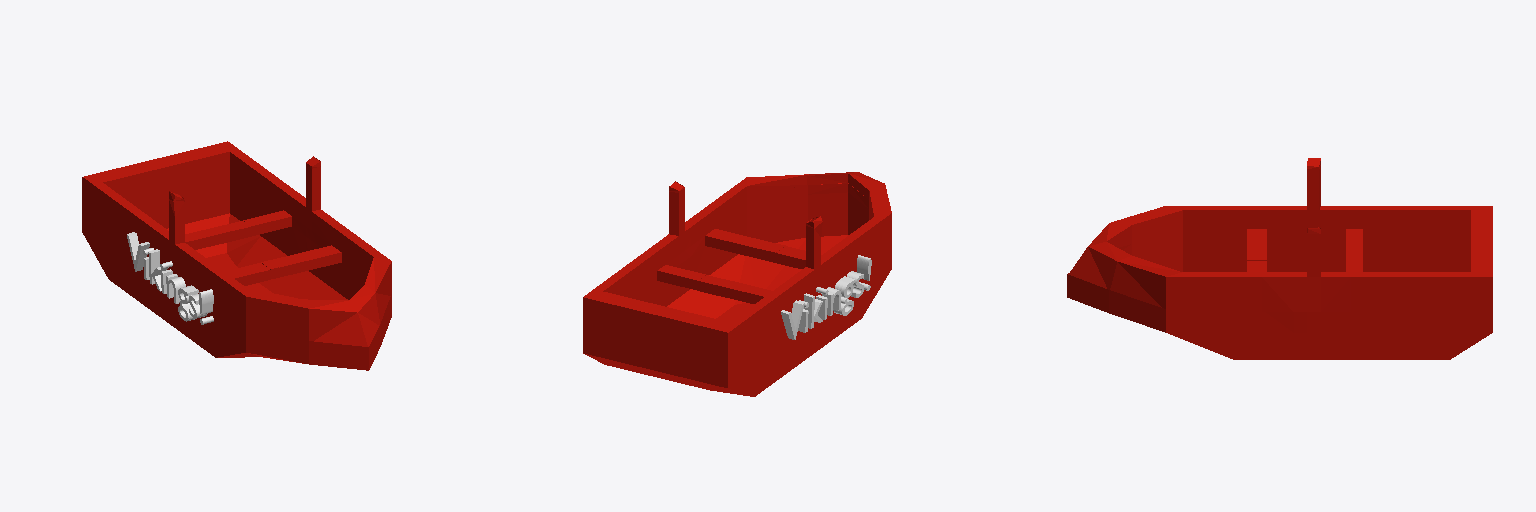
The model's file is boat3.obj.
3 renders of one model, left to right at view 1: azimuth 30°, elevation 25°; view 2: azimuth 150°, elevation 25°; view 3: azimuth 270°, elevation 25°, orthographic.
Parts seen in each view (by area): view 1: boat_Cube, Vikings_Text; view 2: boat_Cube, Vikings_Text; view 3: boat_Cube.
Part boxes in pixels (x1,y1,x2,y2): boat_Cube: (82,141,391,370); Vikings_Text: (127,232,213,324); boat_Cube: (583,172,891,396); Vikings_Text: (781,255,871,339); boat_Cube: (1067,158,1492,359).
Bounding box in the file's own units: 2.41 × 1.92 × 5.62.